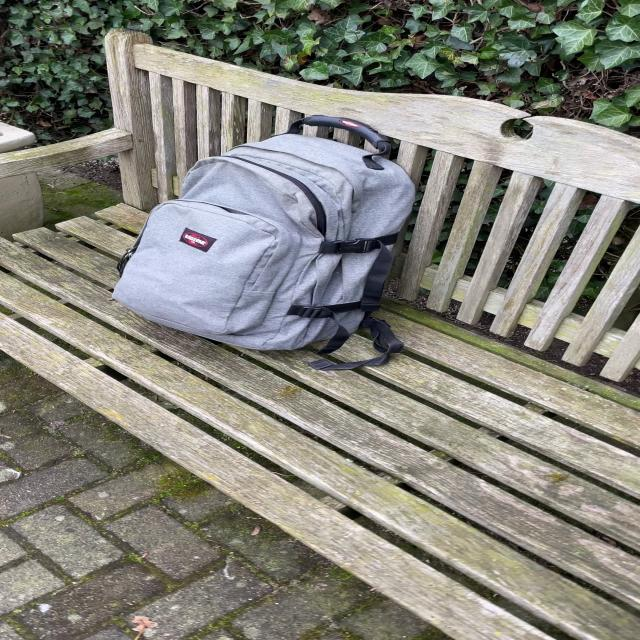backpack: (96, 111, 426, 356)
